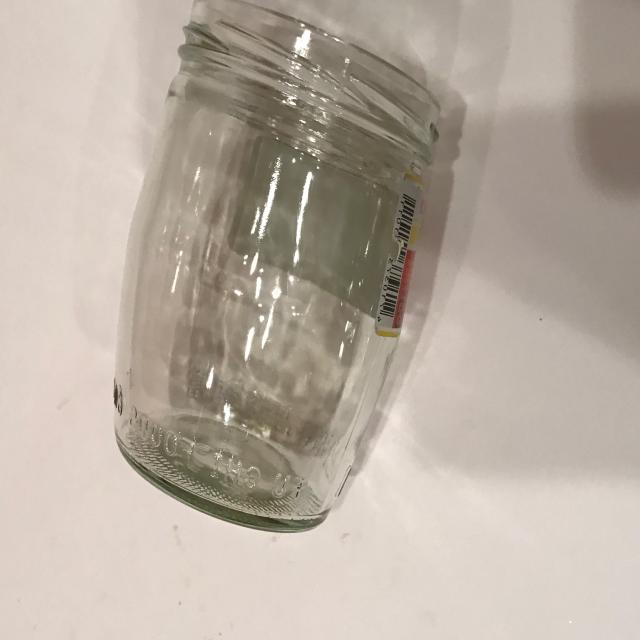glass: (112, 0, 443, 533)
